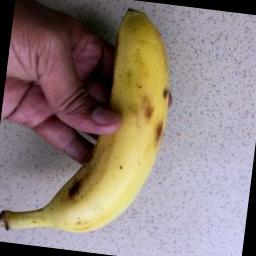Banana Ripe: (6, 0, 183, 256)
